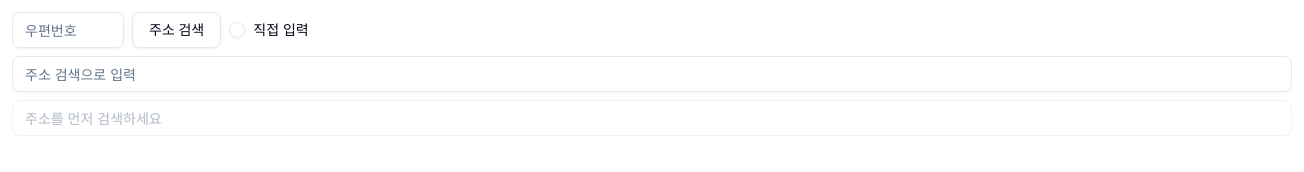
Test case: CustomerAddressInput › fills postal code and address after a search selection
The image size is (1304, 172).
Click the button "주소 검색". click: click(177, 30)
box: [132, 12, 221, 48]
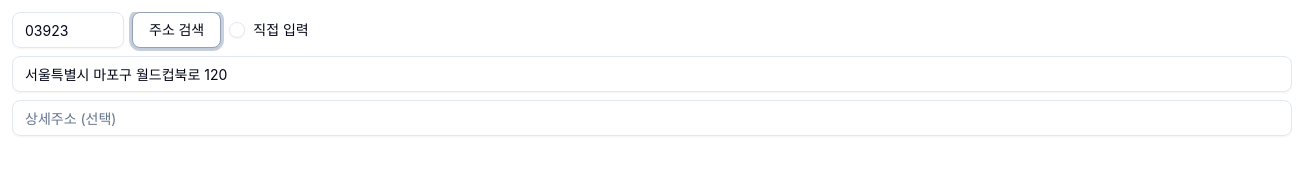
Now the field named "우편번호" holds "03923", box [12, 12, 124, 48]
Now the field named "기본 주소" holds "서울특별시 마포구 월드컵북로 120", box [12, 56, 1292, 92]
